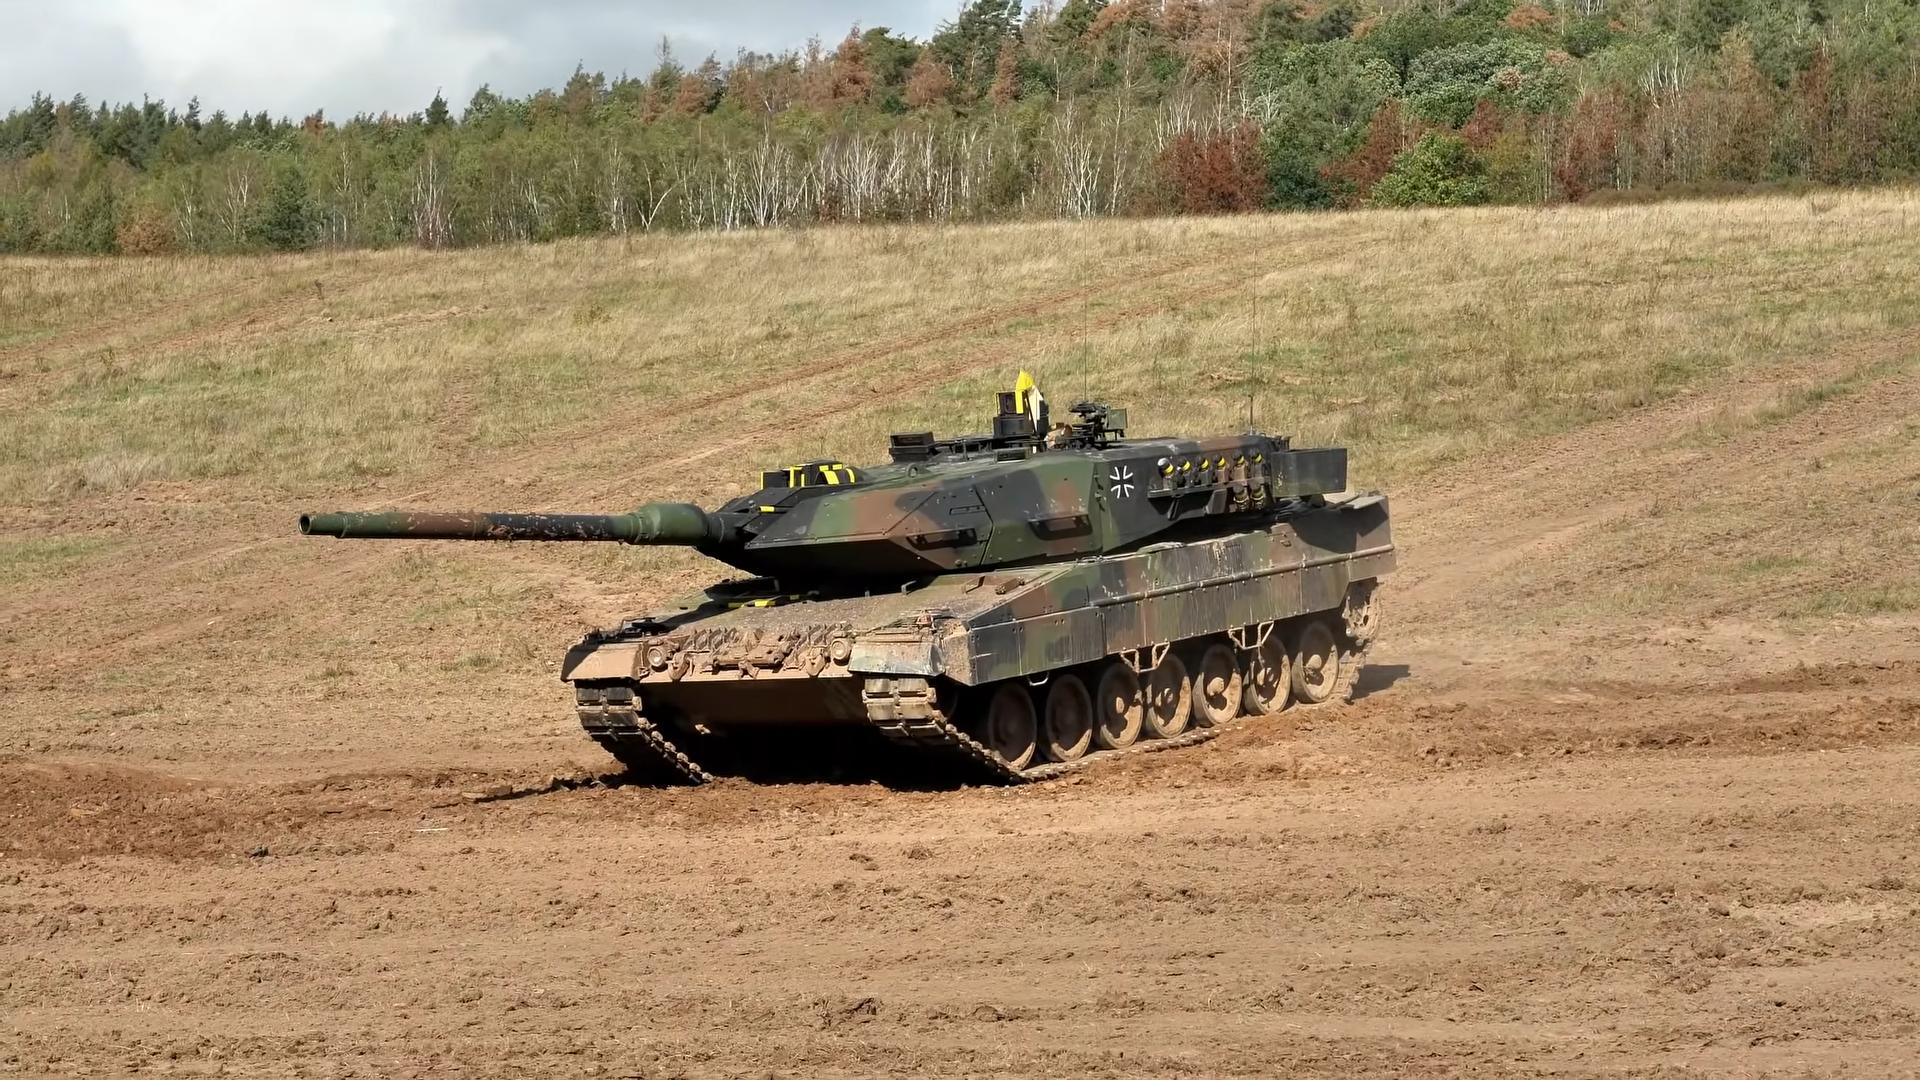tank: (302, 394, 1396, 783)
